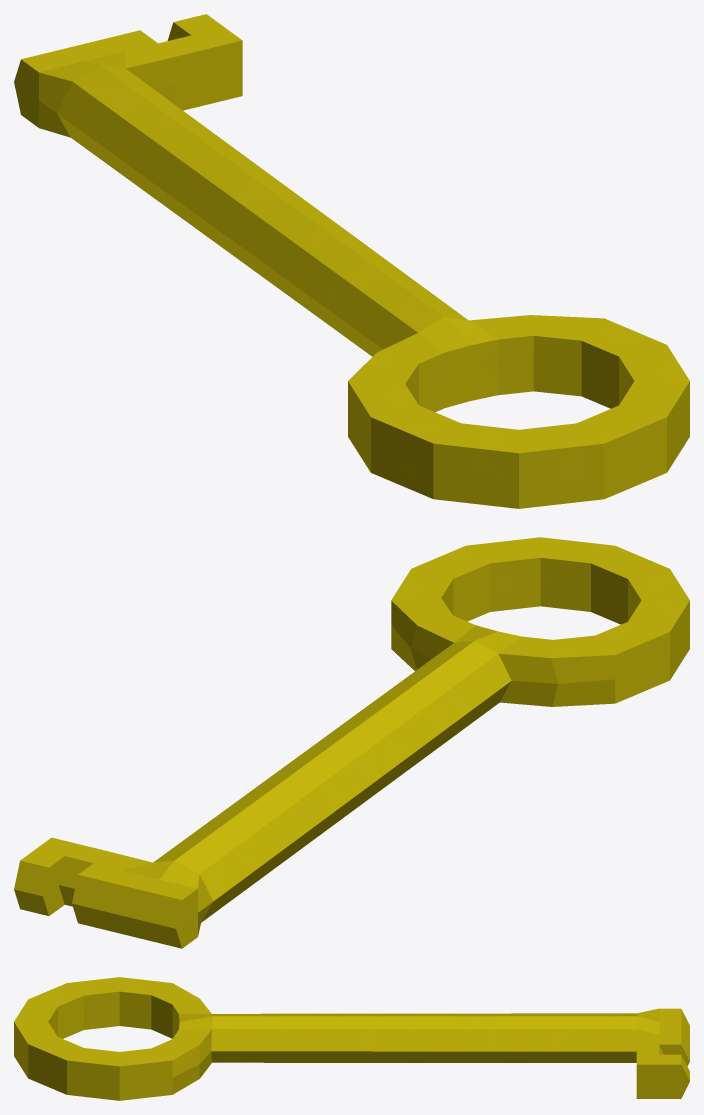
The model's file is Key.fbx.
3 renders of one model, top to bottom at view 1: azimuth 30°, elevation 25°; view 2: azimuth 150°, elevation 25°; view 3: azimuth 270°, elevation 25°, orthographic. The views are drawn at different scales.
Parts seen in each view (by area): view 1: Key; view 2: Key; view 3: Key.
Part boxes in pixels (x1,y1,x2,y2): Key: (14, 14, 689, 508); Key: (14, 537, 689, 948); Key: (14, 977, 689, 1100).
Bounding box in the file's own units: 5.22 × 1.22 × 16.7.
